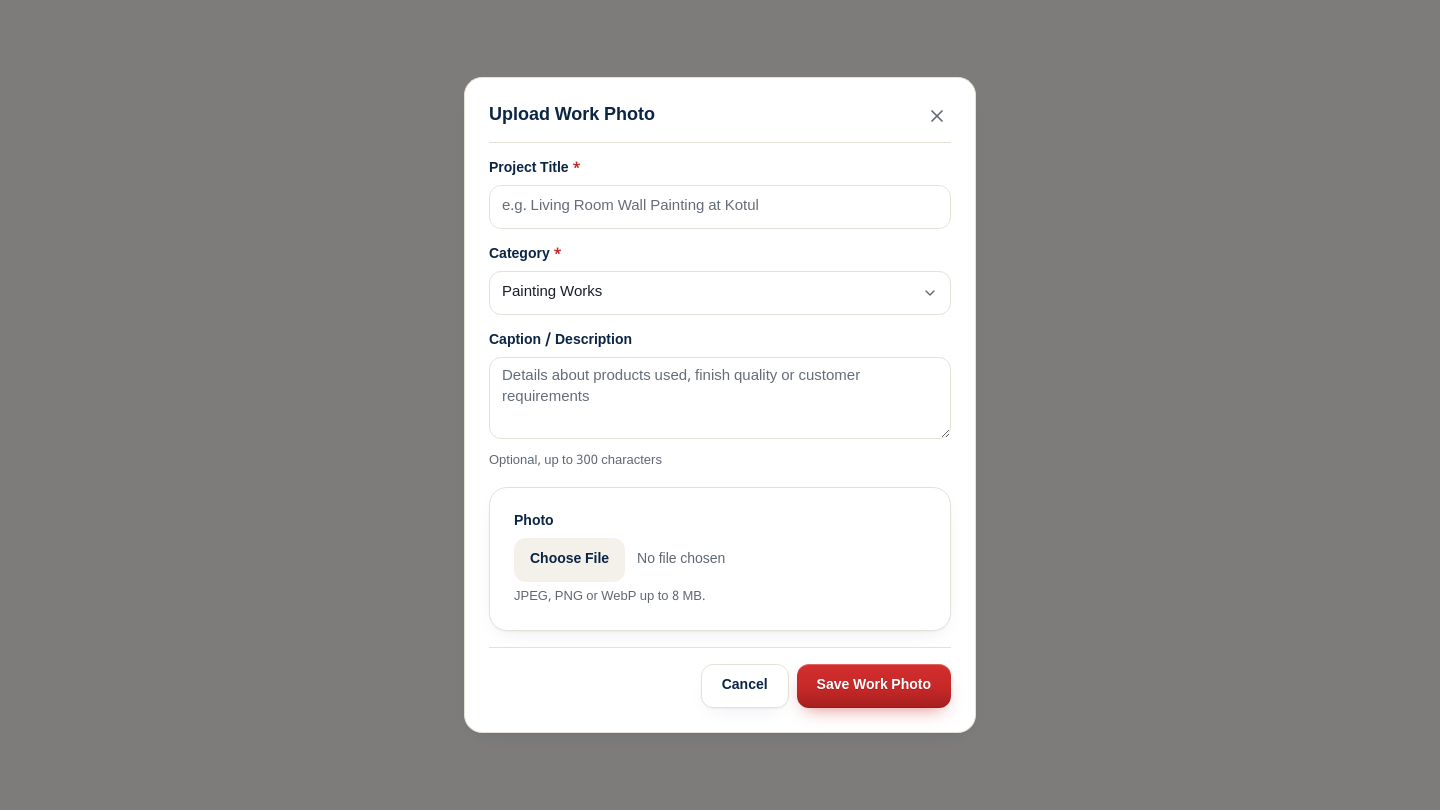
it: GalleryForm › asks for a title and a photo before uploading a new work photo
Click the button "Save Work Photo". click: (874, 686)
box: [797, 664, 951, 708]
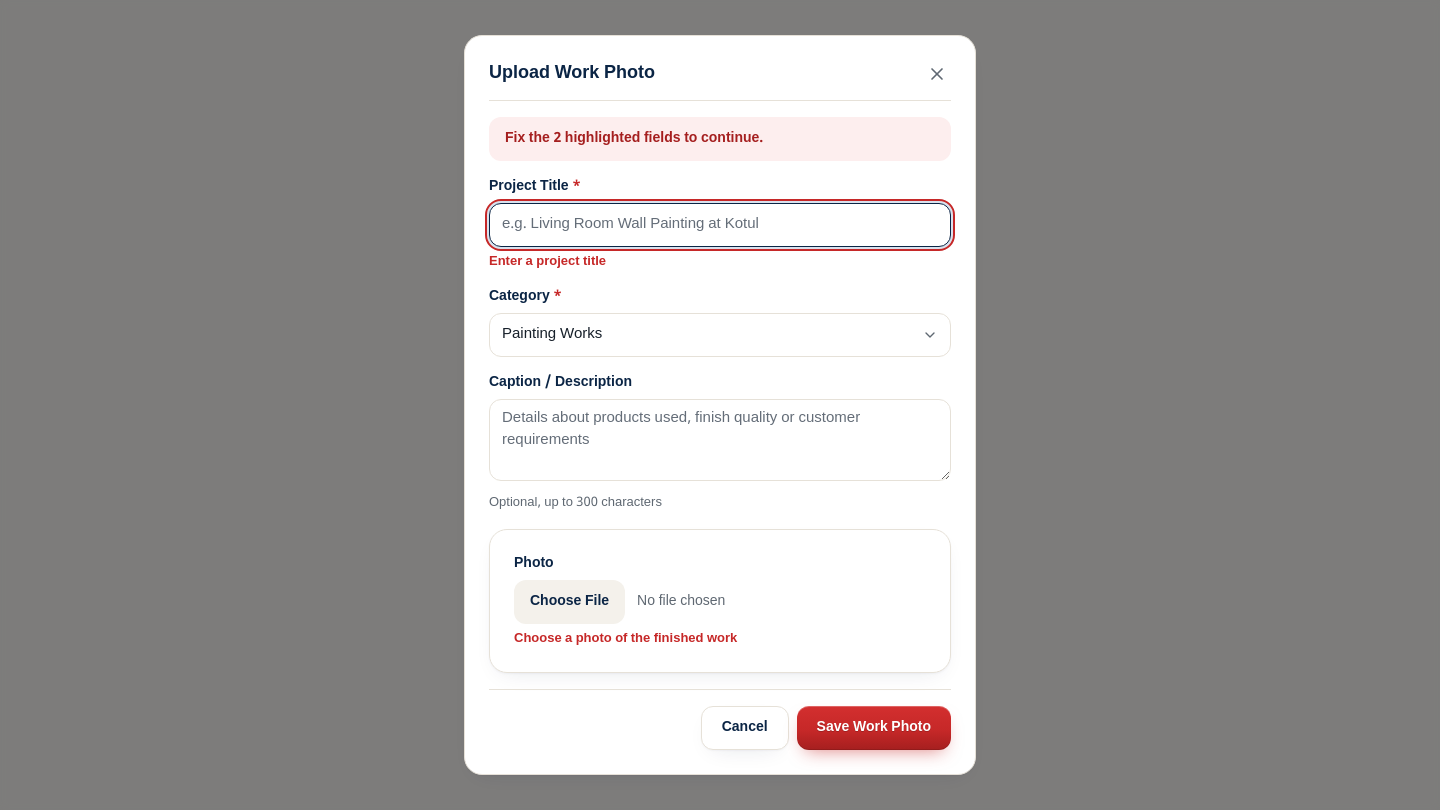
Now the text "Enter a project title" is shown, box [489, 252, 606, 270]
Now the text "Choose a photo of the finished work" is shown, box [514, 630, 737, 647]
Now the message reads "Fix the 2 highlighted fields to continue.", box [505, 128, 763, 148]
